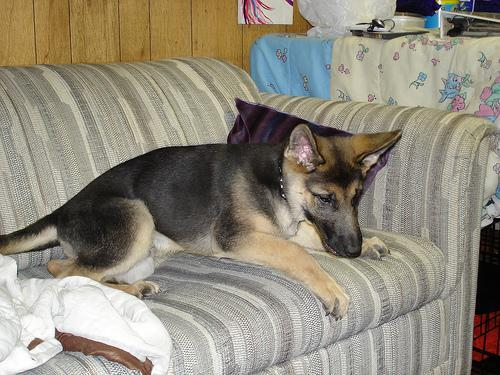German_shepherd: (2, 121, 408, 320)
